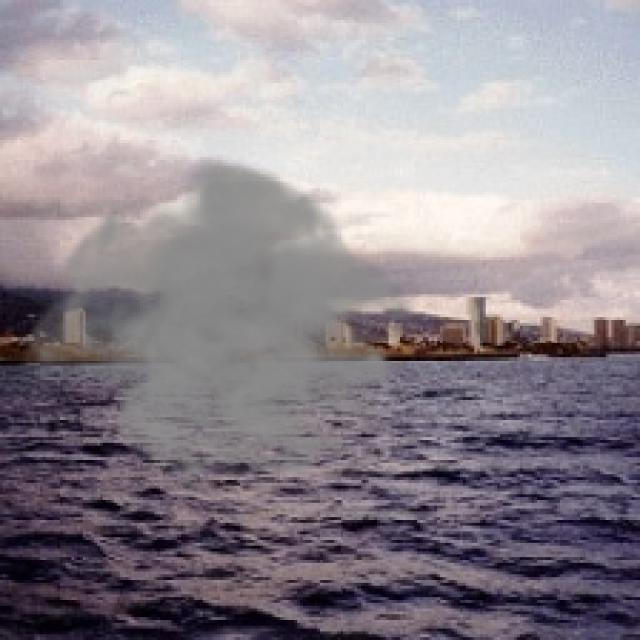Smoke: (17, 154, 432, 497)
